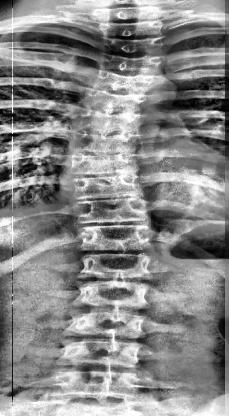Vertebrae: (56, 366, 146, 400), (70, 224, 164, 254), (71, 308, 153, 338), (77, 252, 159, 282), (68, 174, 150, 204), (78, 278, 150, 310), (58, 338, 144, 364), (75, 199, 153, 227), (86, 86, 150, 118), (72, 132, 138, 160), (81, 110, 147, 138), (71, 154, 141, 180), (98, 72, 162, 96), (104, 52, 165, 76), (108, 35, 172, 57), (104, 20, 164, 38)
